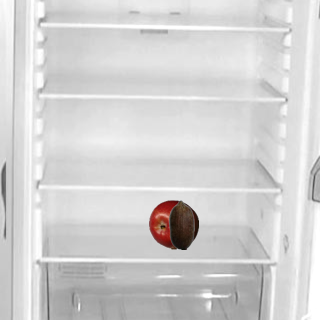Apple Braeburn: (148, 199, 198, 249)
Nut Pecan: (156, 199, 206, 249)
